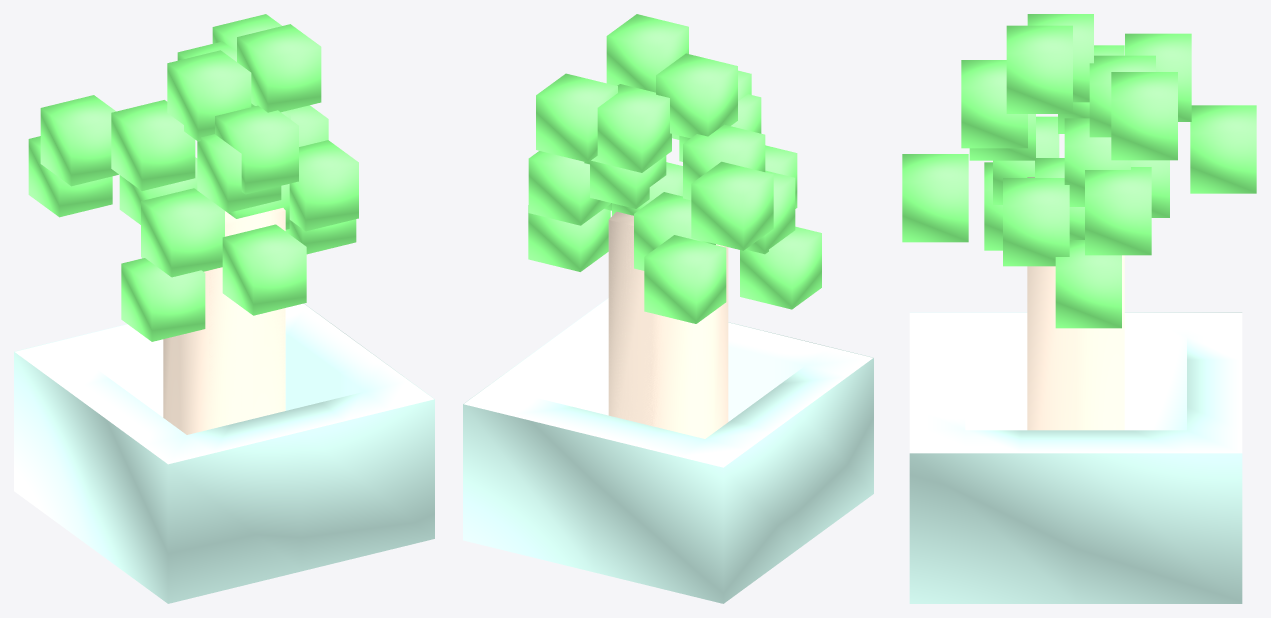
The model's file is ExportedBlenderFBXFile.fbx.
3 renders of one model, left to right at view 1: azimuth 30°, elevation 25°; view 2: azimuth 150°, elevation 25°; view 3: azimuth 270°, elevation 25°, orthographic. The views are drawn at different scales.
Parts seen in each view (by area): view 1: Cube, Cube_007, Cube_004, Cube_001, Cube_013, Cube_003, Cube_008, Cube_006, Cube_005, Cube_011, Cube_002, Cube_015 (+6 smaller); view 2: Cube, Cube_015, Cube_003, Cube_009, Cube_006, Cube_012, Cube_008, Cube_013, Cube_010, Cube_014, Cube_001, Cube_018 (+5 smaller); view 3: Cube, Cube_012, Cube_007, Cube_013, Cube_015, Cube_010, Cube_011, Cube_014, Cube_005, Cube_017, Cube_003, Cube_009 (+7 smaller).
Part boxes in pixels (left/top/right/bottom): Cube: left=14, top=208, right=434, bottom=603; Cube_007: left=222, top=224, right=306, bottom=315; Cube_004: left=141, top=188, right=224, bottom=277; Cube_001: left=111, top=100, right=195, bottom=190; Cube_013: left=237, top=24, right=321, bottom=112; Cube_003: left=40, top=95, right=118, bottom=186; Cube_008: left=121, top=258, right=205, bottom=341; Cube_006: left=167, top=50, right=251, bottom=141; Cube_005: left=215, top=105, right=298, bottom=194; Cube_011: left=289, top=140, right=358, bottom=231; Cube_002: left=197, top=134, right=281, bottom=212; Cube_015: left=28, top=136, right=112, bottom=217; Cube: left=463, top=211, right=873, bottom=603; Cube_015: left=644, top=235, right=726, bottom=323; Cube_003: left=691, top=161, right=773, bottom=250; Cube_009: left=591, top=84, right=671, bottom=172; Cube_006: left=656, top=53, right=737, bottom=138; Cube_012: left=536, top=73, right=617, bottom=162; Cube_008: left=740, top=226, right=821, bottom=309; Cube_013: left=606, top=14, right=688, bottom=92; Cube_010: left=528, top=151, right=610, bottom=225; Cube_014: left=528, top=205, right=610, bottom=271; Cube_001: left=683, top=124, right=765, bottom=200; Cube_018: left=634, top=192, right=715, bottom=270; Cube: left=909, top=177, right=1242, bottom=603; Cube_012: left=1111, top=72, right=1177, bottom=160; Cube_007: left=902, top=154, right=968, bottom=242; Cube_013: left=1006, top=25, right=1072, bottom=113; Cube_015: left=1190, top=105, right=1256, bottom=193; Cube_010: left=1085, top=167, right=1151, bottom=255; Cube_011: left=1003, top=178, right=1069, bottom=266; Cube_014: left=1055, top=240, right=1121, bottom=328; Cube_005: left=961, top=60, right=1027, bottom=148; Cube_017: left=1064, top=118, right=1130, bottom=206; Cube_003: left=1125, top=33, right=1191, bottom=121; Cube_009: left=1089, top=55, right=1155, bottom=137.
Size of the model in its own units: 2 by 3.41 by 2.13.
